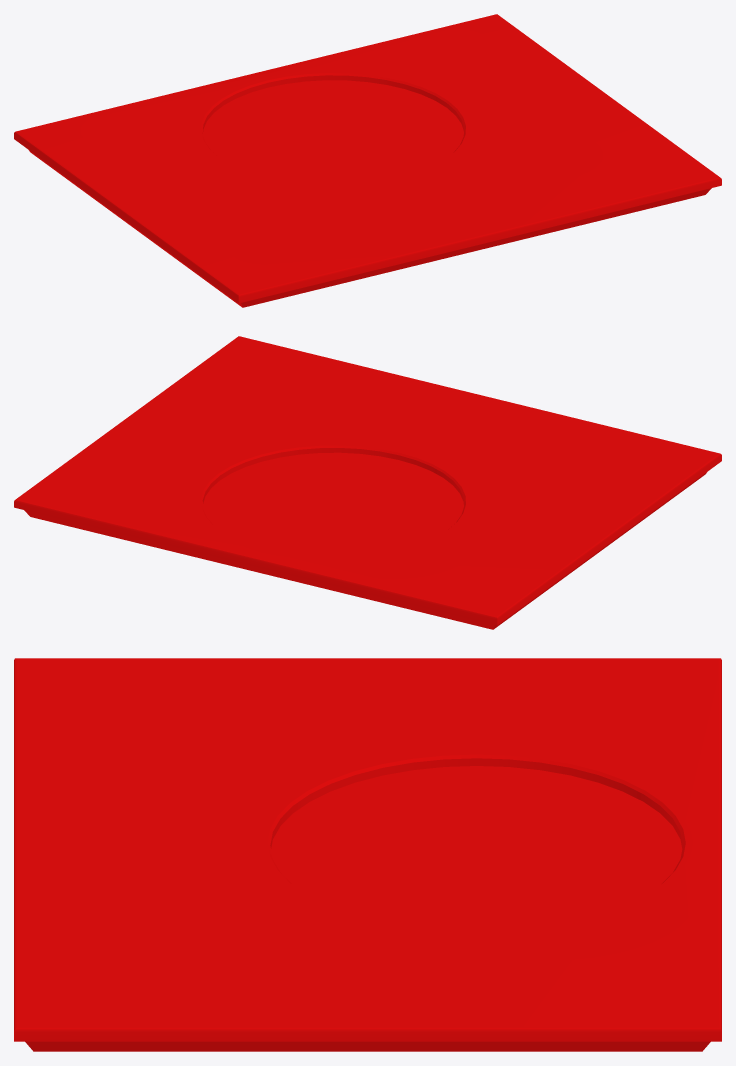
The model's file is SM_PC_screen_01_base.glb.
3 renders of one model, top to bottom at view 1: azimuth 30°, elevation 25°; view 2: azimuth 150°, elevation 25°; view 3: azimuth 270°, elevation 25°, orthographic. The views are drawn at different scales.
Parts seen in each view (by area): view 1: SM_PC_screen_01_base_LOD0; view 2: SM_PC_screen_01_base_LOD0; view 3: SM_PC_screen_01_base_LOD0.
Boxes of the visible parts, box(x1,y1,x2,y2) form: SM_PC_screen_01_base_LOD0: box(14, 14, 721, 307); SM_PC_screen_01_base_LOD0: box(14, 336, 721, 629); SM_PC_screen_01_base_LOD0: box(14, 658, 721, 1051).
Size of what is drawn, in the model's own units: 0.205 by 0.00788 by 0.165.
